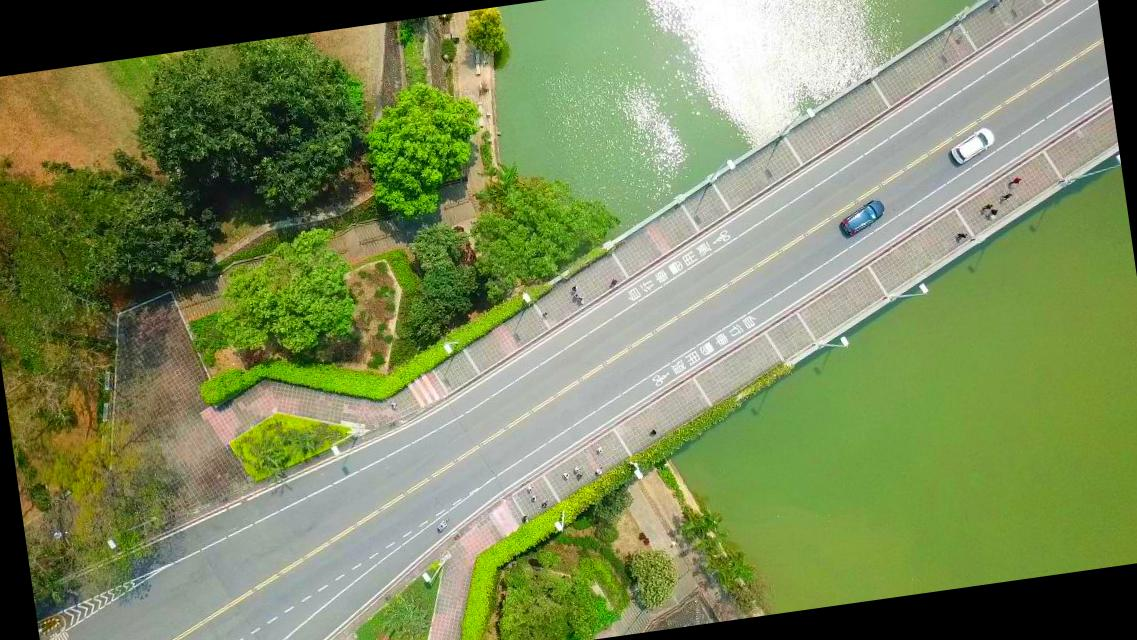vehicle: (837, 199, 888, 238), (947, 125, 996, 165)
